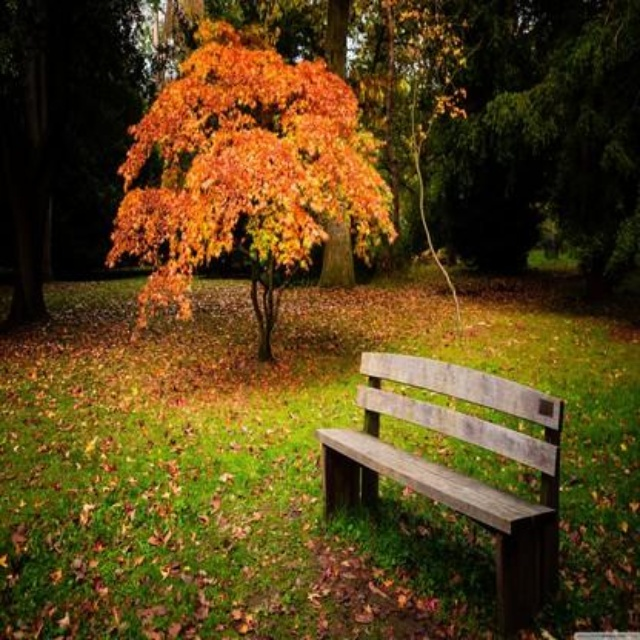obstacle: (297, 335, 589, 605)
